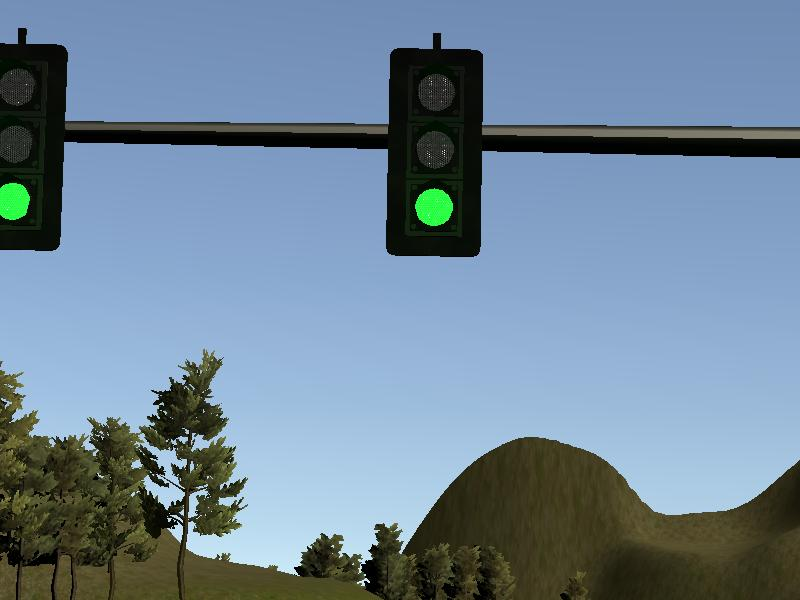green: (390, 46, 482, 257), (1, 45, 63, 254)
